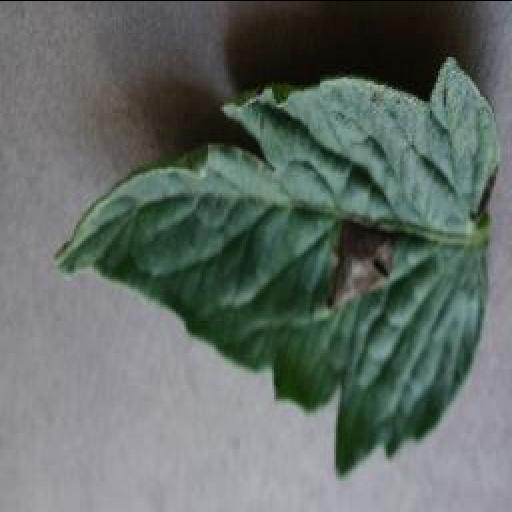Early Blight: (48, 52, 506, 477)
